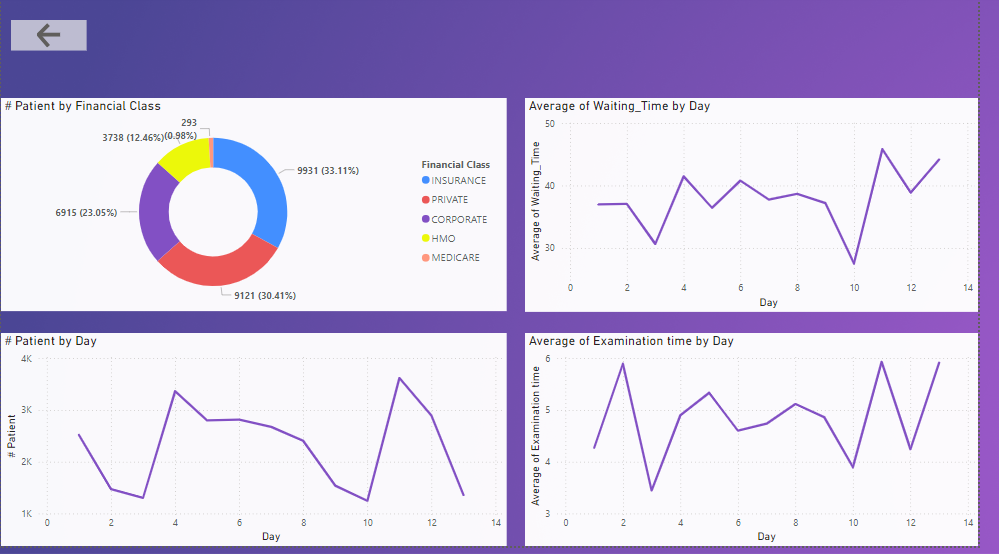

This screenshot's page, from the dashboard's own definition file:
{"tool":"powerbi","page":{"name":"More Details","canvas":[1280,720],"ordinal":1},"visuals":[{"type":"lineChart","fields":{"Category":["Sheet1.Date.Variation.Date Hierarchy.Day"],"Y":["Measure.# Patient"]},"box":[0,440.6,662.4,279.4],"z":0},{"type":"lineChart","fields":{"Category":["Sheet1.Date.Variation.Date Hierarchy.Day"],"Y":["Avg(Sheet1.Waiting_Time)"]},"box":[686,133.5,594.3,280.1],"z":1000},{"type":"lineChart","fields":{"Category":["Sheet1.Date.Variation.Date Hierarchy.Day"],"Y":["Avg(Sheet1.Examination time)"]},"box":[685.4,440.6,594.7,279.4],"z":2000},{"type":"actionButton","box":[13,31.7,99.4,40.3],"z":3000},{"type":"donutChart","fields":{"Category":["Sheet1.Financial Class"],"Y":["Measure.# Patient"]},"box":[0,133.9,662.4,279.4],"z":4000}]}

Visuals, with their boxes in screenshot pixels (x1, y1, x2, y2), scaled from the page's 1280x720 canvas onto the 999x554 screenshot:
lineChart - Sheet1.Date.Variation.Date Hierarchy.Day x Measure.# Patient: {"x1": 0, "y1": 339, "x2": 517, "y2": 553}
lineChart - Sheet1.Date.Variation.Date Hierarchy.Day x Avg(Sheet1.Waiting_Time): {"x1": 535, "y1": 103, "x2": 998, "y2": 318}
lineChart - Sheet1.Date.Variation.Date Hierarchy.Day x Avg(Sheet1.Examination time): {"x1": 535, "y1": 339, "x2": 998, "y2": 553}
actionButton: {"x1": 10, "y1": 24, "x2": 88, "y2": 55}
donutChart - Sheet1.Financial Class x Measure.# Patient: {"x1": 0, "y1": 103, "x2": 517, "y2": 318}
